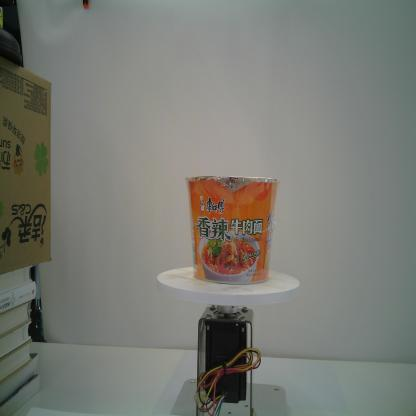Instant Noodles: (184, 174, 281, 285)
